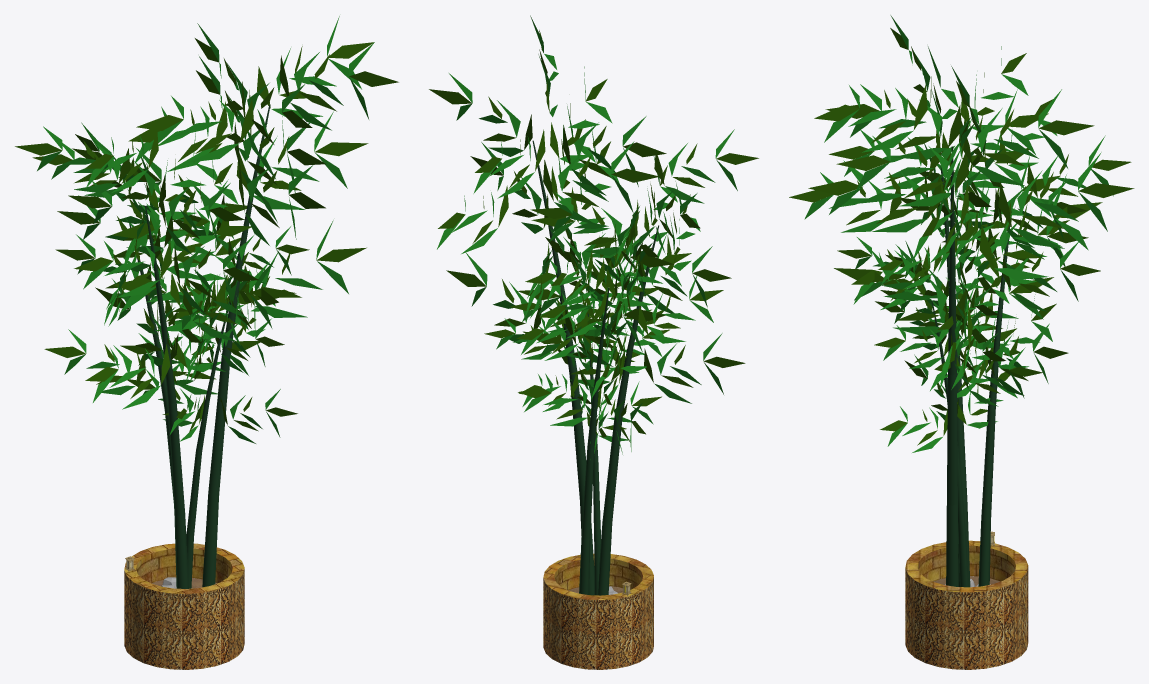
The model's file is bamboo_with_plant_pot.e439754a.glb.
3 renders of one model, left to right at view 1: azimuth 30°, elevation 25°; view 2: azimuth 150°, elevation 25°; view 3: azimuth 270°, elevation 25°, orthographic. The views are drawn at different scales.
Visible parts, largest first — view 1: Material2 (×5); view 2: Material2 (×5); view 3: Material2 (×5).
Boxes of the visible parts, bbox=[...] form: Material2 (×5): bbox=[15, 16, 398, 669]; Material2 (×5): bbox=[429, 15, 758, 669]; Material2 (×5): bbox=[789, 15, 1134, 669].
Bounding box in the file's own units: 109 × 194 × 97.43.
Materials: 11 (4 with a texture image).
